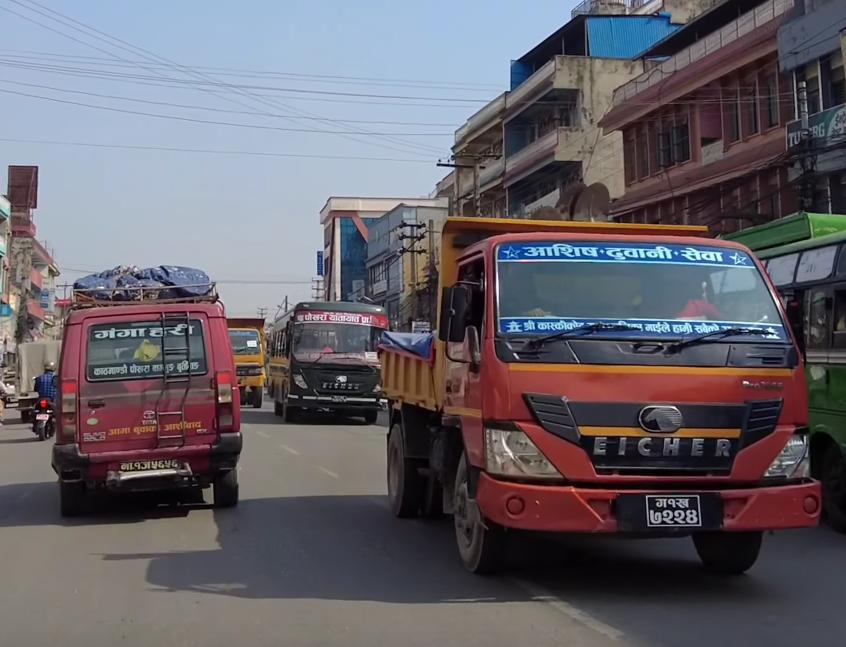SUV: (39, 259, 250, 522)
bus: (259, 293, 388, 428)
mini_truck: (364, 194, 825, 589)
scooter: (26, 362, 54, 439)
truck: (216, 303, 271, 413)
